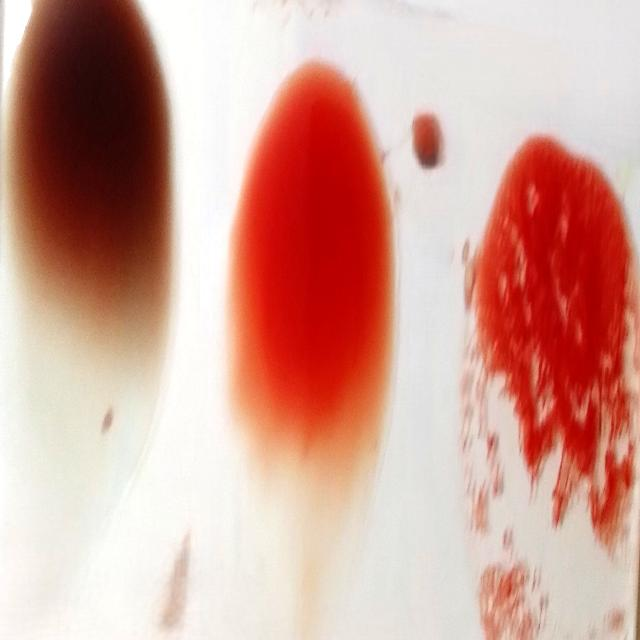D: (462, 126, 634, 640)
